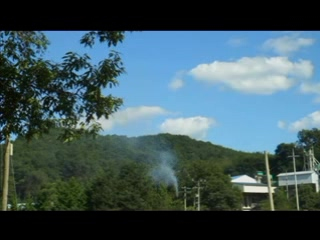smoke: (148, 149, 182, 199)
